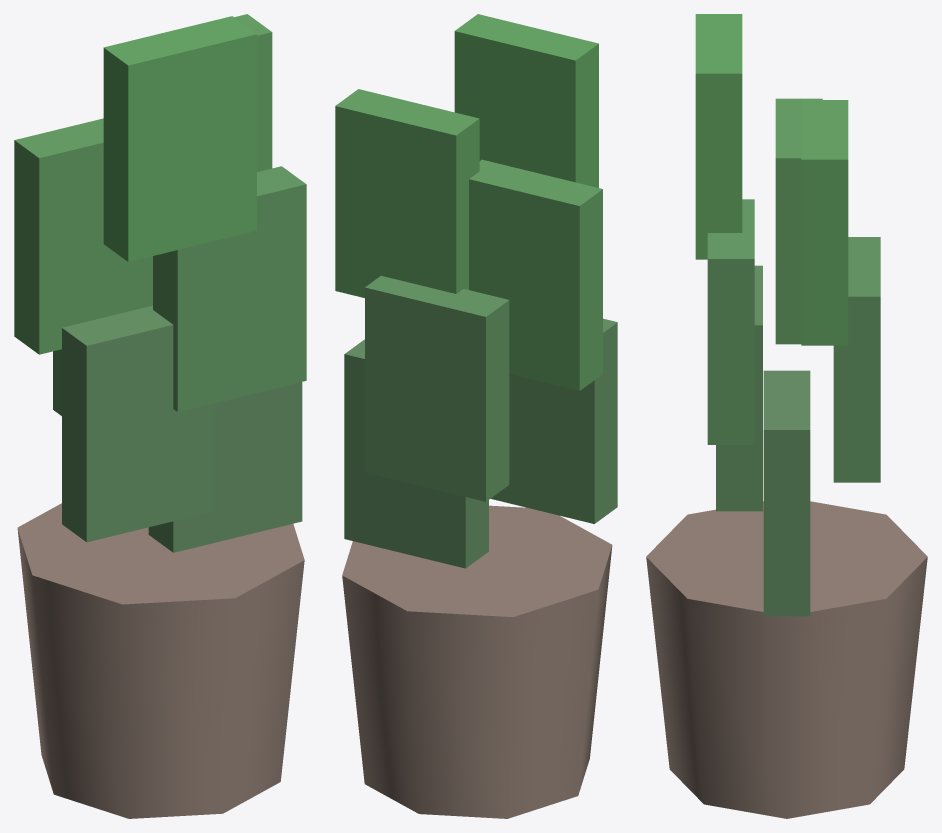
Rendered from plant.gltf.
The picture shows the model from 3 angles, left to right: view 1: azimuth 30°, elevation 25°; view 2: azimuth 150°, elevation 25°; view 3: azimuth 270°, elevation 25°; orthographic projection. The views are drawn at different scales.
Parts seen in each view (by area): view 1: plant; view 2: plant; view 3: plant.
Boxes of the visible parts, box(x1,y1,x2,y2) form: plant: box(14, 14, 306, 818); plant: box(335, 14, 617, 818); plant: box(646, 14, 927, 818).
Size of the model in its own units: 0.48 by 1.35 by 0.48.
